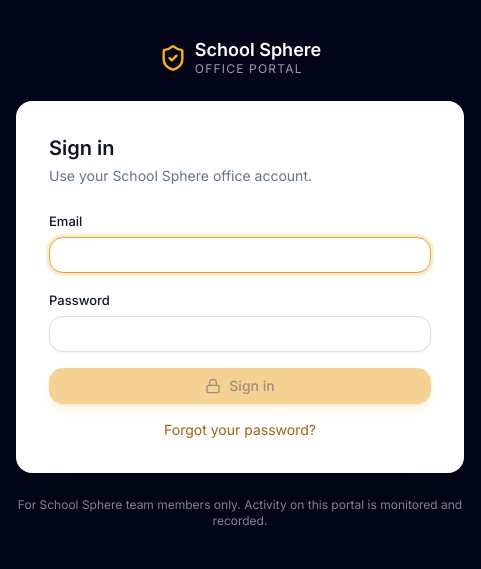
Scenario: /adminLogin › shows the server's message when sign-in fails, and stays on the form
In the field labelled "Email": point(240, 255) top-left (49, 237), bottom-right (431, 273), type "ops@office.test"
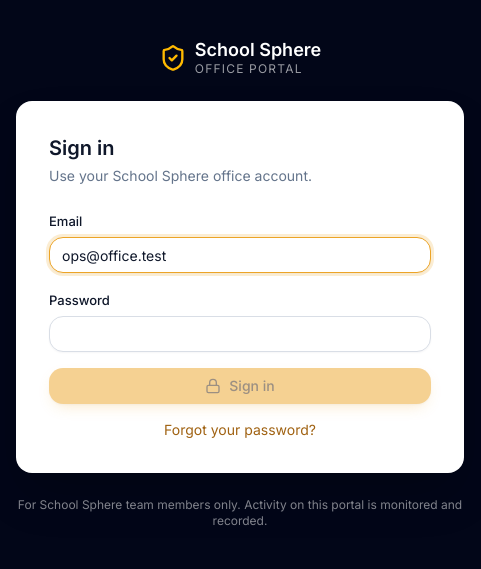
In the password field labelled "Password": point(240, 334) top-left (49, 316), bottom-right (431, 352), type "Whatever-1234!"
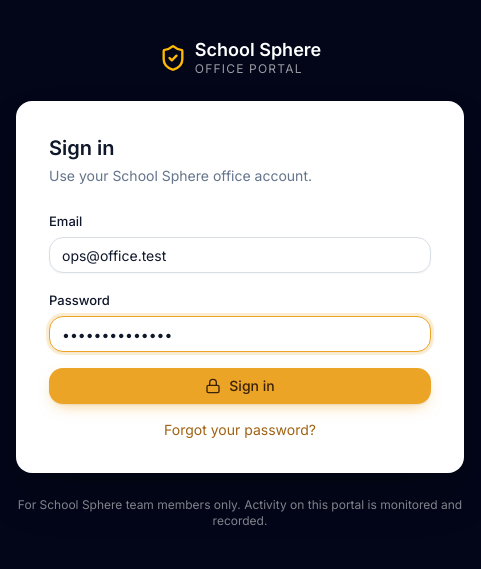
Click the button "Sign in": point(240, 386) top-left (49, 368), bottom-right (431, 404)
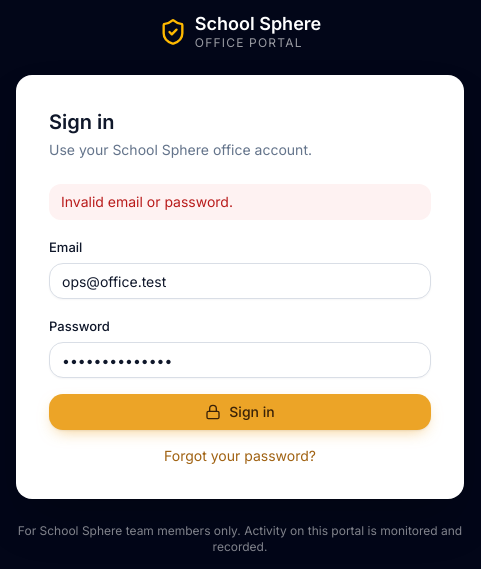
Expected: the message reads "Invalid email or password.", top-left (61, 193), bottom-right (233, 210)
